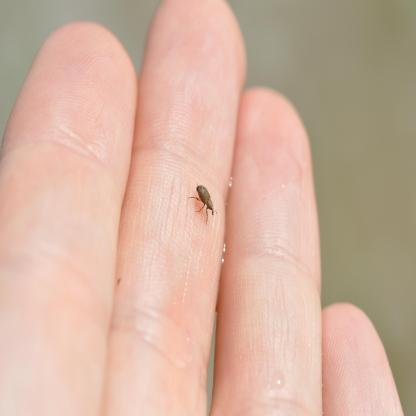rice-bug: (191, 184, 218, 220)
